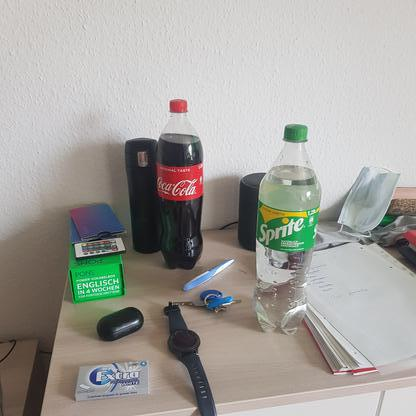coca-cola: (153, 97, 206, 273)
